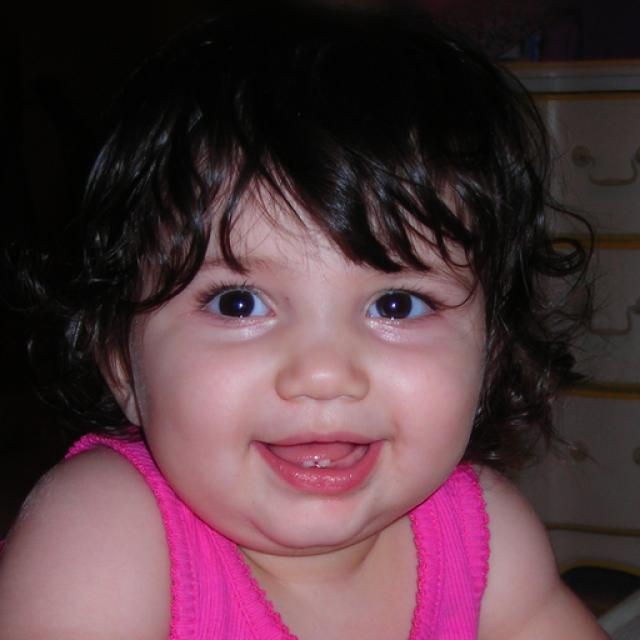happy: (138, 145, 488, 545)
